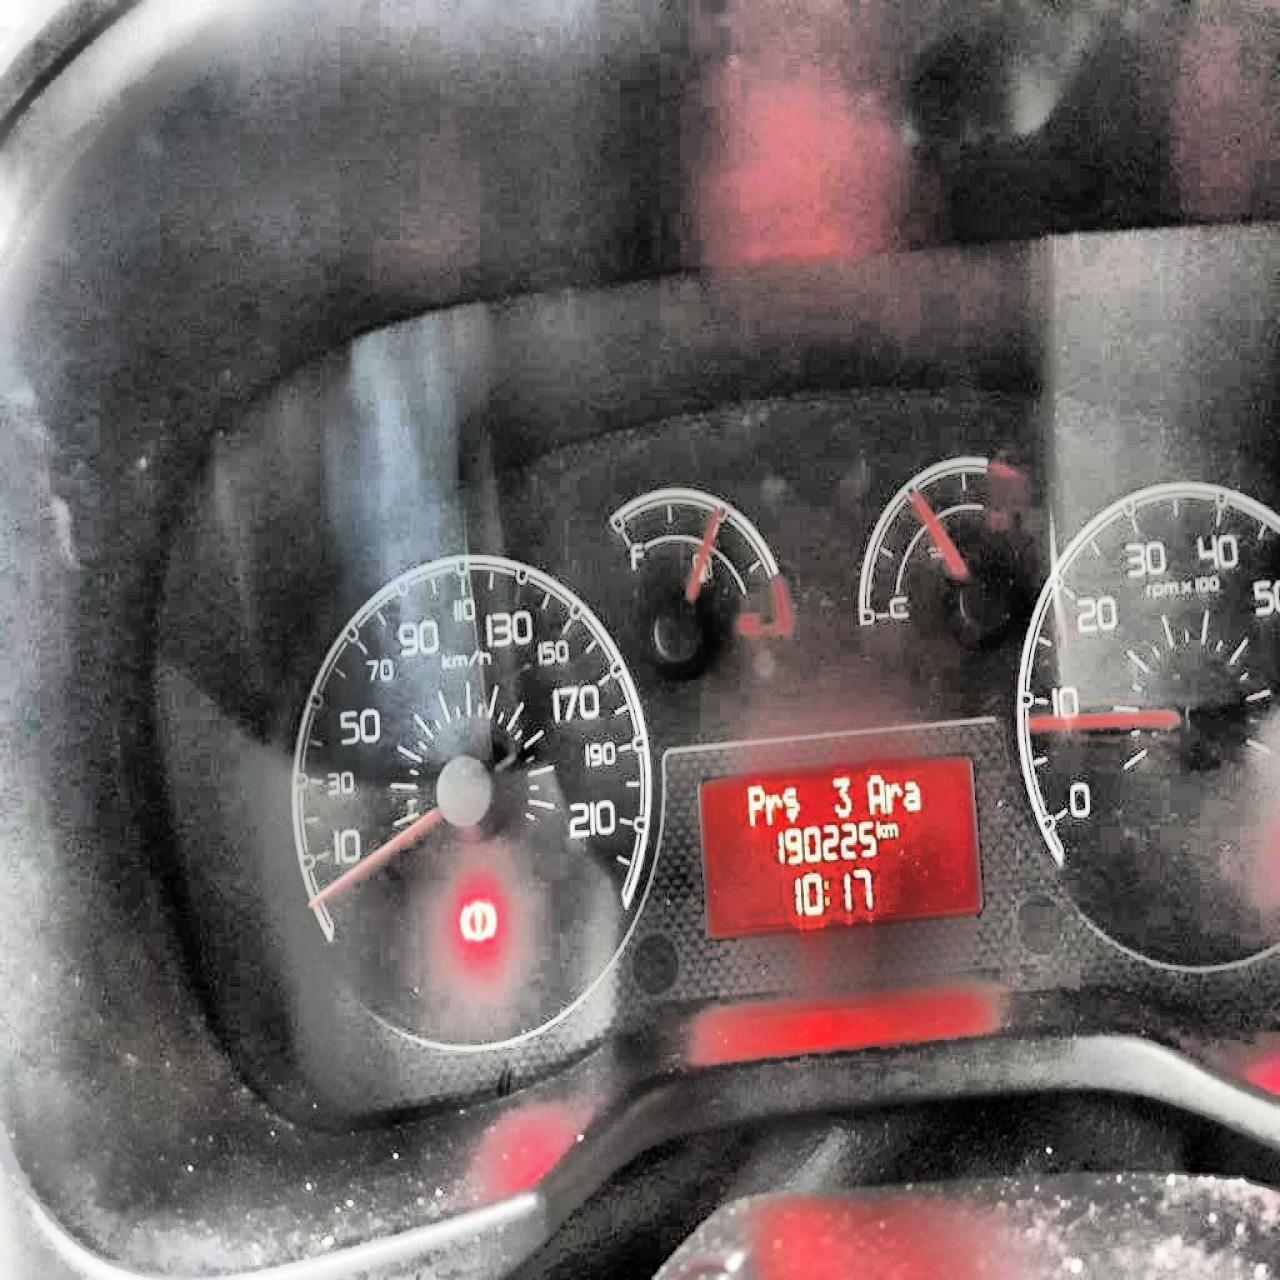0: (802, 870, 823, 915), (801, 823, 821, 862)
1: (840, 870, 851, 910), (792, 873, 802, 917), (775, 826, 784, 863)
2: (840, 821, 858, 860), (822, 822, 839, 860)
3: (830, 774, 852, 817)
5: (858, 818, 877, 857)
7: (851, 865, 873, 908)
9: (783, 825, 803, 863)
X: (865, 770, 885, 815), (745, 782, 764, 826), (781, 783, 799, 822), (903, 778, 921, 812), (885, 779, 903, 813), (765, 790, 781, 825), (884, 819, 898, 838), (823, 877, 831, 906), (874, 818, 884, 838)
odometer: (695, 751, 983, 938)
